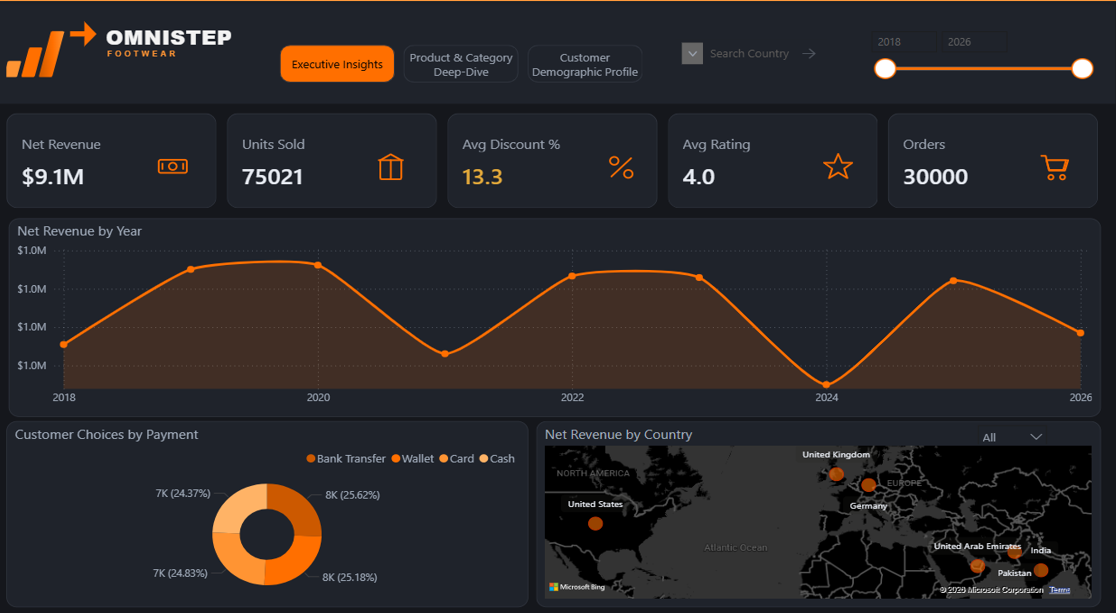

What the dashboard file says about the page in this screenshot:
{"tool":"powerbi","page":{"name":"Executive Insights","canvas":[1280,755],"ordinal":0},"visuals":[{"type":"shape","box":[0,0,1280.2,124.8],"z":0},{"type":"cardVisual","fields":{"Data":["Measures Table.Net Revenue","Measures Table.Total Units Sold","Measures Table.Average Discount %","Measures Table.Average Rating","Measures Table.Total Orders"]},"box":[0,119.7,1280.2,150.5],"z":1000},{"type":"lineChart","fields":{"Y":["Measures Table.Net Revenue"],"Category":["CalendarDim.Year"]},"box":[19.3,265,1244.2,243.2],"z":2000},{"type":"donutChart","title":"Customer Choices by Payment","fields":{"Category":["SalesDim.payment_method"],"Y":["Measures Table.Total Orders"]},"box":[16.7,513.4,594.4,227.7],"z":3000},{"type":"map","title":"Net Revenue by Country","fields":{"Category":["SalesDim.Country Full"],"Size":["Measures Table.Net Revenue"]},"box":[620.2,513.4,643.3,227.7],"z":4000},{"type":"image","box":[16.7,0,299.8,124.8],"z":5000},{"type":"slicer","fields":{"Values":["SalesDim.Country Full"]},"box":[1112.9,508.2,99.1,33.5],"z":6000},{"type":"textSlicer","fields":{"Values":["SalesDim.Country Full"]},"box":[773.3,41.2,182.7,42.5],"z":7000},{"type":"slicer","fields":{"Values":["CalendarDim.Year"]},"box":[989.4,25.7,274.1,73.3],"z":8000},{"type":"image","box":[181.4,181.4,50.2,39.9],"z":9000},{"type":"image","box":[939.3,181.4,50.2,39.9],"z":10000},{"type":"image","box":[692.2,182.7,50.2,39.9],"z":11000},{"type":"image","box":[1187.6,182.7,50,40],"z":12000},{"type":"image","box":[429.7,182.7,50,40],"z":13000},{"type":"pageNavigator","box":[328.1,52.8,414.3,46.3],"z":14000}]}

Visuals, with their boxes on the page's 1280x755 design canvas (x1, y1, x2, y2). These are canvas units, not pixel positions in the 1116x613 screenshot, which may show the page scaled, cropped or inside an application window:
shape: [0,0,1280,125]
cardVisual - Measures Table.Net Revenue x Measures Table.Total Units Sold: [0,120,1280,270]
lineChart - Measures Table.Net Revenue x CalendarDim.Year: [19,265,1264,508]
"Customer Choices by Payment" donutChart: [17,513,611,741]
"Net Revenue by Country" map: [620,513,1264,741]
image: [17,0,316,125]
slicer - SalesDim.Country Full: [1113,508,1212,542]
textSlicer - SalesDim.Country Full: [773,41,956,84]
slicer - CalendarDim.Year: [989,26,1264,99]
image: [181,181,232,221]
image: [939,181,990,221]
image: [692,183,742,223]
image: [1188,183,1238,223]
image: [430,183,480,223]
pageNavigator: [328,53,742,99]
